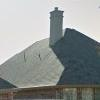Chimney: (45, 3, 66, 48)
